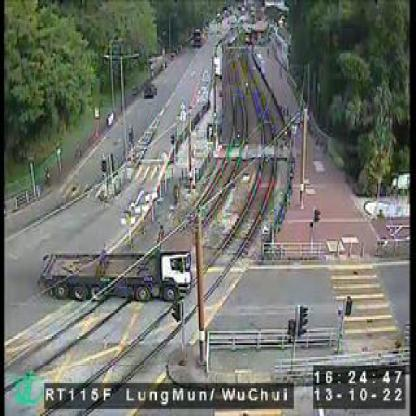Truck: (42, 233, 193, 299)
